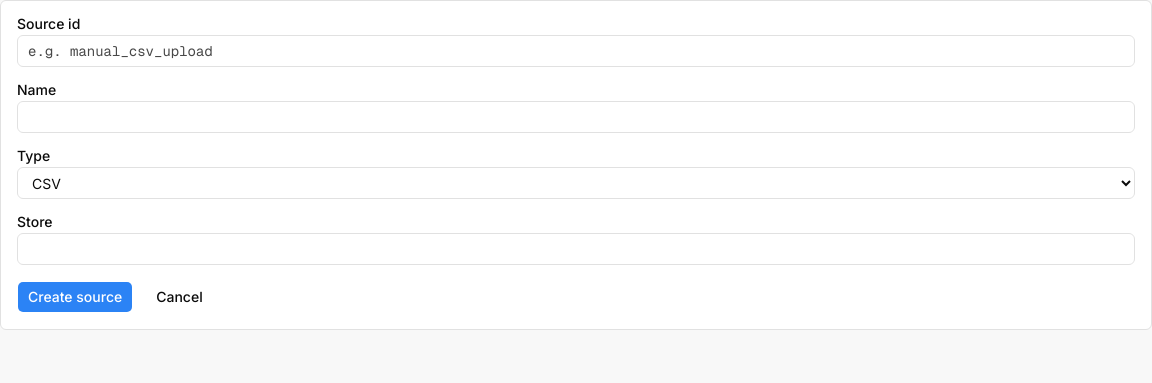
it: SourceForm (shared by create + edit) › create mode: requires a source id (alert, no submit)
Click the button "Create source" at (75, 297), box [17,281,133,313]
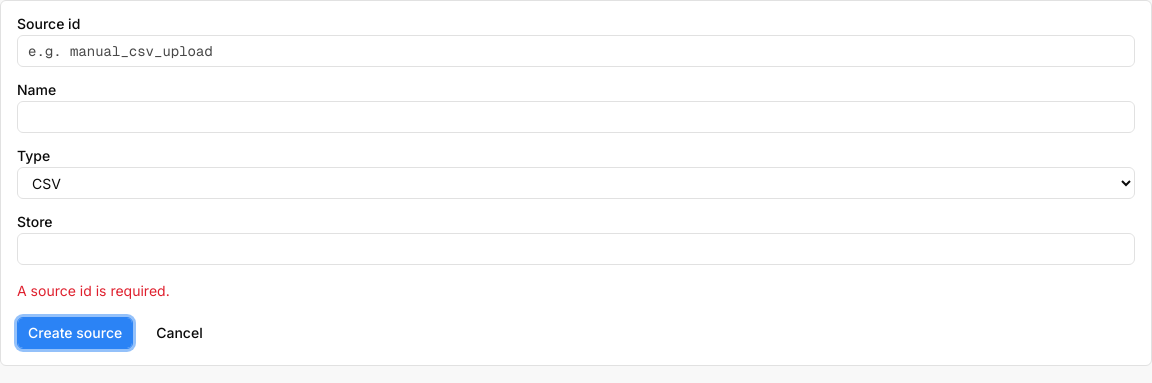
Now the message shows "source id is required", box [17,282,170,299]
